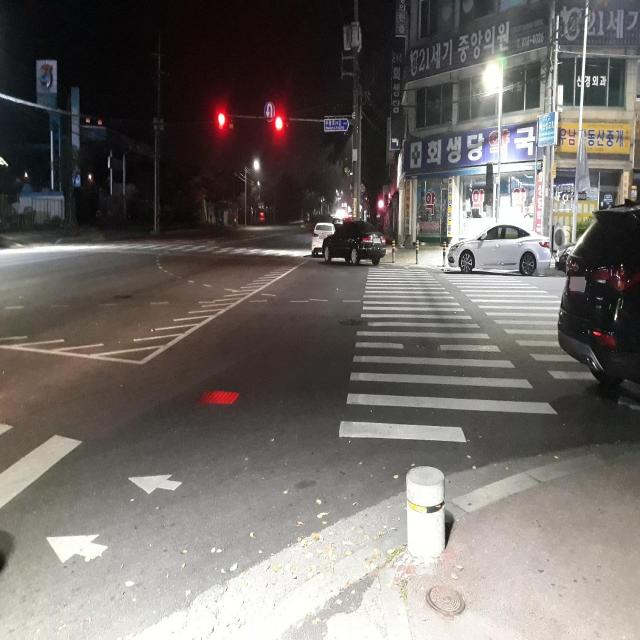횡단보도: (336, 260, 640, 447)
